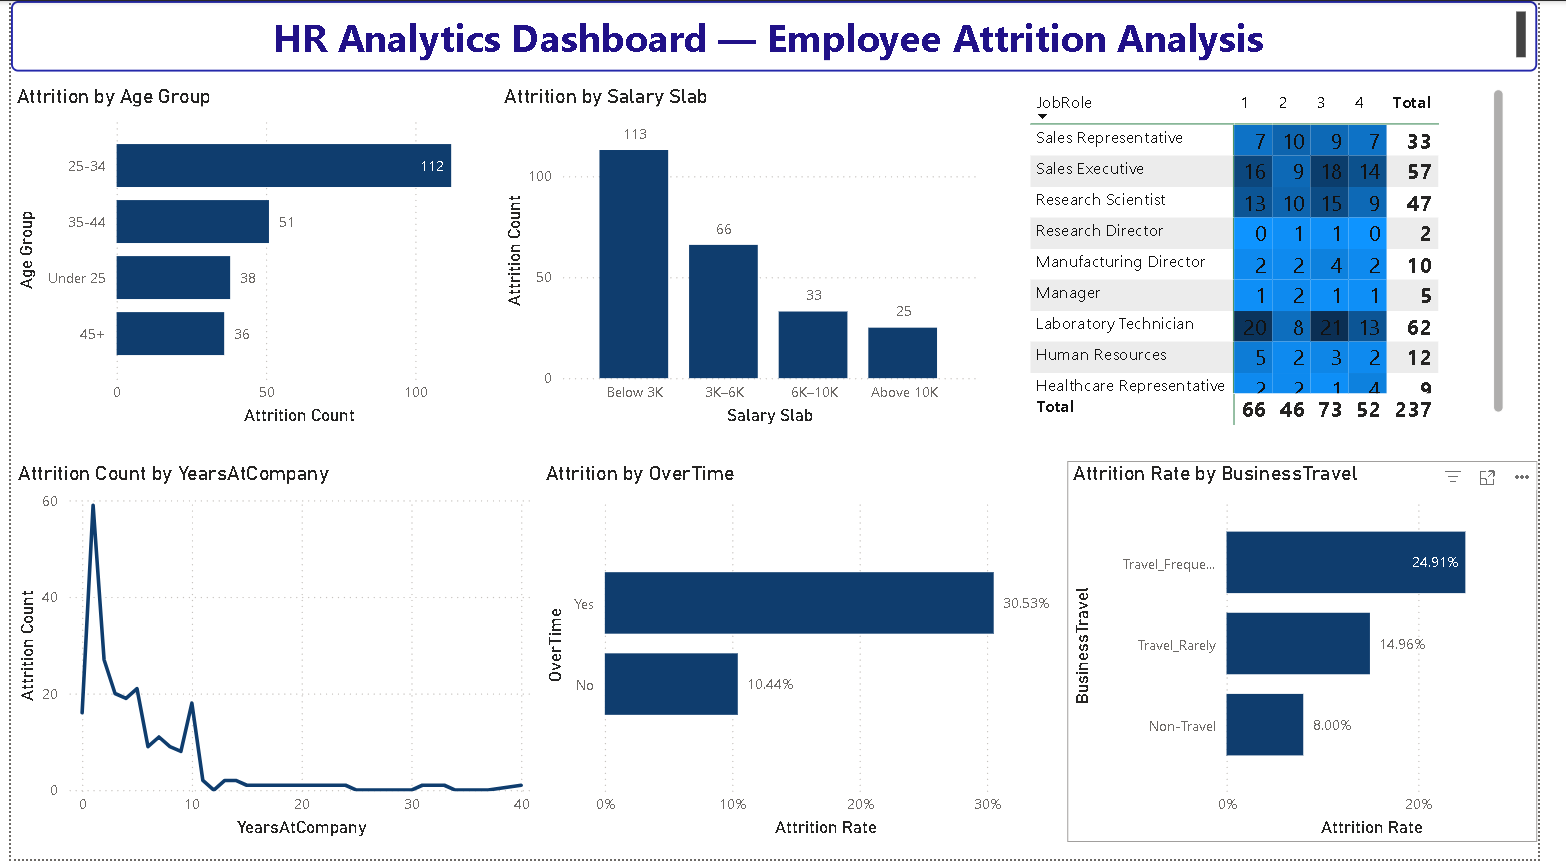

What the dashboard file says about the page in this screenshot:
{"tool":"powerbi","page":{"name":"Page 2","canvas":[1280,720],"ordinal":1},"visuals":[{"type":"barChart","title":"Attrition by Age Group","fields":{"Category":["HR-Employee-Attrition.Age Group"],"Y":["HR-Employee-Attrition.Attrition Count"]},"box":[0,68.9,408.9,291.1],"z":0},{"type":"columnChart","title":"Attrition by Salary Slab","fields":{"Category":["HR-Employee-Attrition.Salary Slab"],"Y":["HR-Employee-Attrition.Attrition Count"]},"box":[408.9,68.9,405.6,291.1],"z":1000},{"type":"textbox","box":[0,0,1280,58.9],"z":2000},{"type":"lineChart","fields":{"Y":["HR-Employee-Attrition.Attrition Count"],"Category":["HR-Employee-Attrition.YearsAtCompany"]},"box":[0.9,385.6,442,320],"z":3000},{"type":"barChart","title":"Attrition by OverTime","fields":{"Category":["HR-Employee-Attrition.OverTime"],"Y":["HR-Employee-Attrition.Attrition Rate"]},"box":[443.3,385.6,442.2,320],"z":4000},{"type":"pivotTable","fields":{"Rows":["HR-Employee-Attrition.JobRole"],"Columns":["HR-Employee-Attrition.JobSatisfaction"],"Values":["HR-Employee-Attrition.Attrition Count"]},"box":[850,68.9,406.7,291.1],"z":5000},{"type":"clusteredBarChart","fields":{"Category":["HR-Employee-Attrition.BusinessTravel"],"Y":["HR-Employee-Attrition.Attrition Rate"]},"box":[885.6,385.6,394.4,320],"z":6000}]}

Visuals, with their boxes in screenshot pixels (x1, y1, x2, y2), scaled from the page's 1280x720 canvas onto the 1566x868 screenshot:
"Attrition by Age Group" barChart: bbox=(0, 83, 500, 434)
"Attrition by Salary Slab" columnChart: bbox=(500, 83, 996, 434)
textbox: bbox=(0, 0, 1565, 71)
lineChart - HR-Employee-Attrition.Attrition Count x HR-Employee-Attrition.YearsAtCompany: bbox=(1, 465, 542, 851)
"Attrition by OverTime" barChart: bbox=(542, 465, 1083, 851)
pivotTable - HR-Employee-Attrition.JobRole x HR-Employee-Attrition.JobSatisfaction: bbox=(1040, 83, 1537, 434)
clusteredBarChart - HR-Employee-Attrition.BusinessTravel x HR-Employee-Attrition.Attrition Rate: bbox=(1083, 465, 1565, 851)
